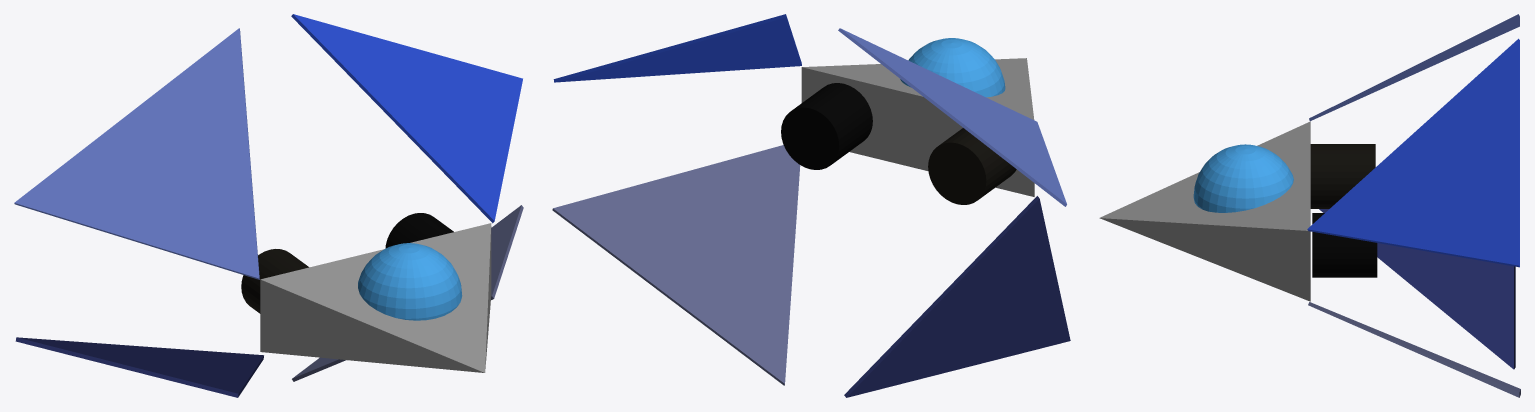
File: hikoki.fbx
3 renders of one model, left to right at view 1: azimuth 30°, elevation 25°; view 2: azimuth 150°, elevation 25°; view 3: azimuth 270°, elevation 25°, orthographic. The views are drawn at different scales.
Visible parts, largest first — view 1: Cube.002, Cube, Cube.001, Sphere, Cube.003, Cube.004, Cylinder.001, Cylinder; view 2: Cube.004, Cube.003, Cube, Cube.002, Cube.001, Cylinder, Cylinder.001, Sphere; view 3: Cube.001, Cube, Cube.003, Sphere, Cylinder.001, Cylinder, Cube.002, Cube.004.
Part boxes in pixels (box(x1,y1,x2,y2)): Cube.002: box(14, 28, 259, 279); Cube: box(260, 223, 491, 372); Cube.001: box(291, 14, 522, 223); Sphere: box(358, 243, 462, 320); Cube.003: box(15, 337, 263, 397); Cube.004: box(292, 205, 523, 381); Cylinder.001: box(241, 249, 308, 313); Cylinder: box(385, 213, 453, 248); Cube.004: box(552, 145, 800, 385); Cube.003: box(844, 196, 1070, 397); Cube: box(801, 58, 1034, 196); Cube.002: box(838, 28, 1066, 206); Cube.001: box(553, 14, 801, 82); Cylinder: box(781, 83, 872, 169); Cylinder.001: box(928, 128, 1016, 204); Sphere: box(900, 38, 1005, 97); Cube.001: box(1307, 38, 1519, 267); Cube: box(1099, 121, 1310, 301); Cube.003: box(1319, 209, 1515, 369); Sphere: box(1193, 144, 1293, 212); Cylinder.001: box(1310, 144, 1375, 208); Cylinder: box(1312, 213, 1377, 277); Cube.002: box(1309, 14, 1519, 121); Cube.004: box(1308, 302, 1520, 397).
Size of the model in its own units: 442 by 305 by 325.
